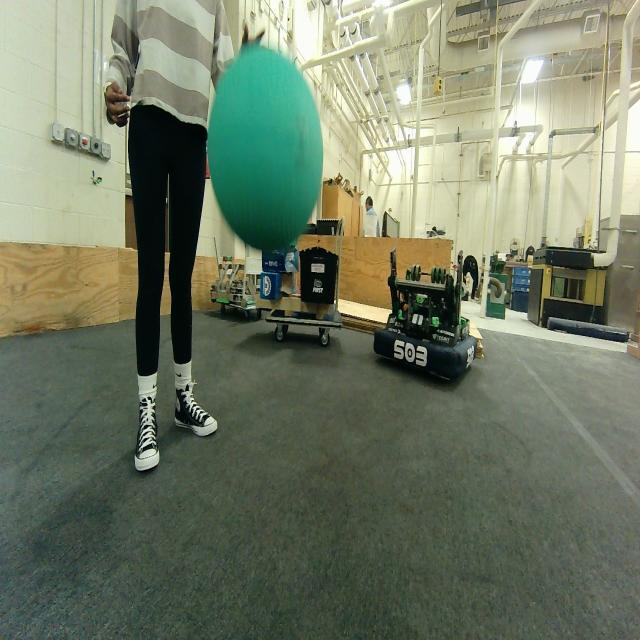algae: (200, 37, 331, 258)
